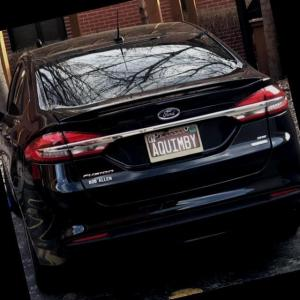Plate: (143, 122, 204, 164)
